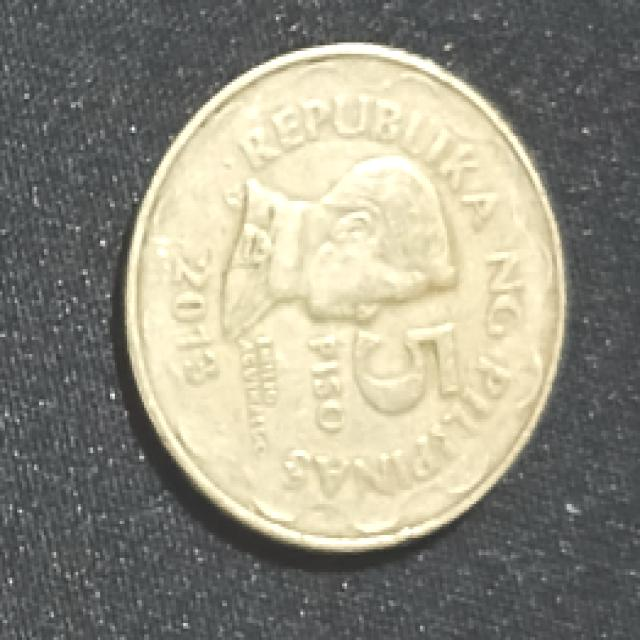5_peso: (127, 45, 562, 549)
